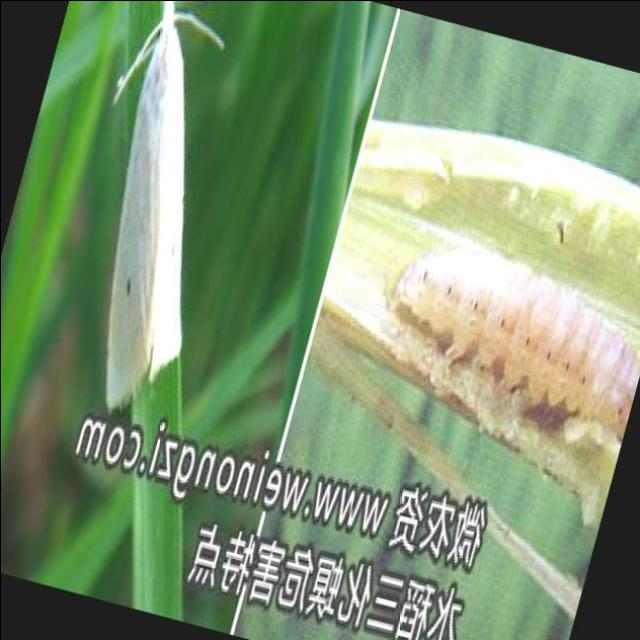stem borer: (394, 249, 639, 451), (106, 0, 225, 403)
